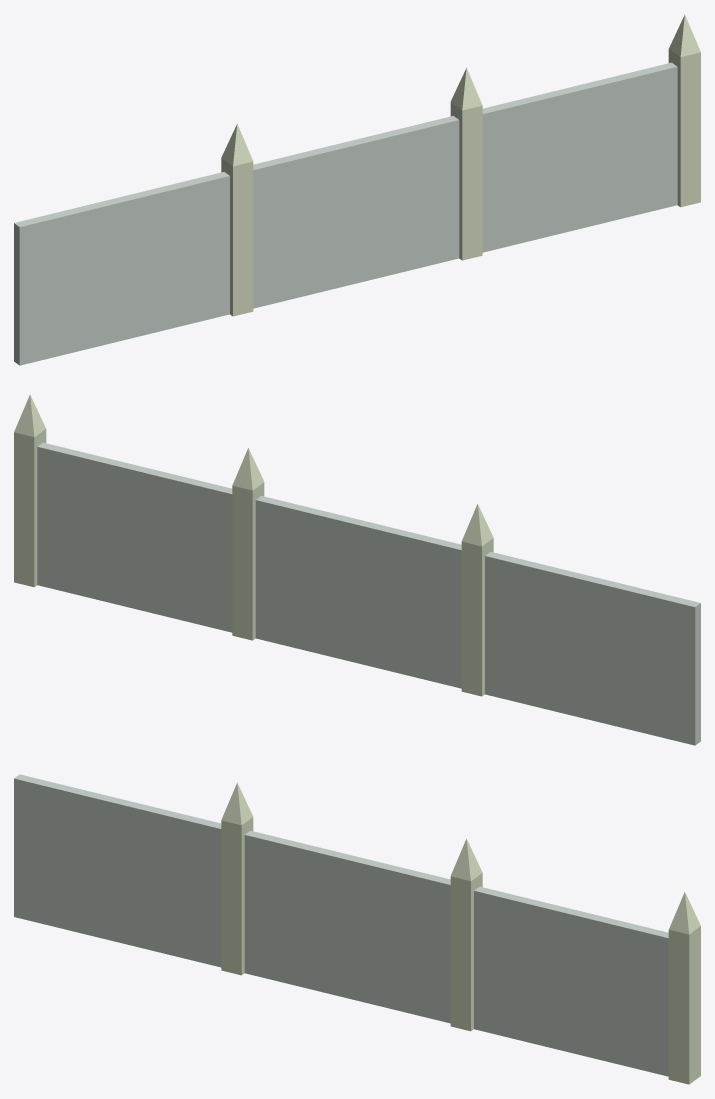
The model's file is Fence02.fbx.
The picture shows the model from 3 angles, top to bottom: view 1: azimuth 30°, elevation 25°; view 2: azimuth 150°, elevation 25°; view 3: azimuth 330°, elevation 25°; orthographic projection.
Visible parts, largest first — view 1: Fence02; view 2: Fence02; view 3: Fence02.
Boxes of the visible parts, x1,y1,x2,y2 form: Fence02: (14, 14, 700, 365); Fence02: (14, 394, 700, 745); Fence02: (14, 774, 700, 1084).
Size of the model in its own units: 1600 by 420 by 48.15.
